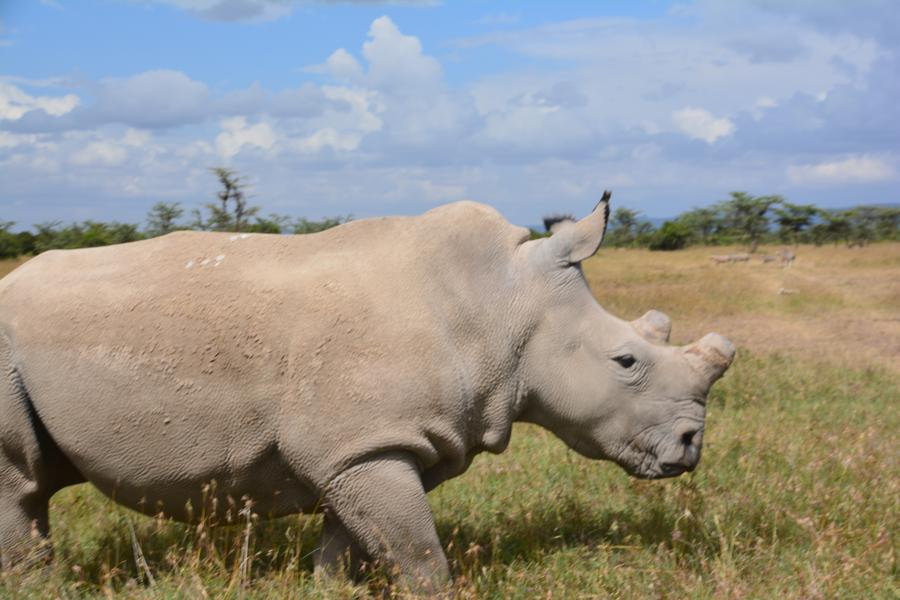rhino: (42, 204, 711, 541)
